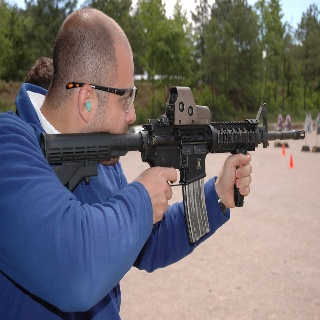rifle: (40, 84, 307, 245)
